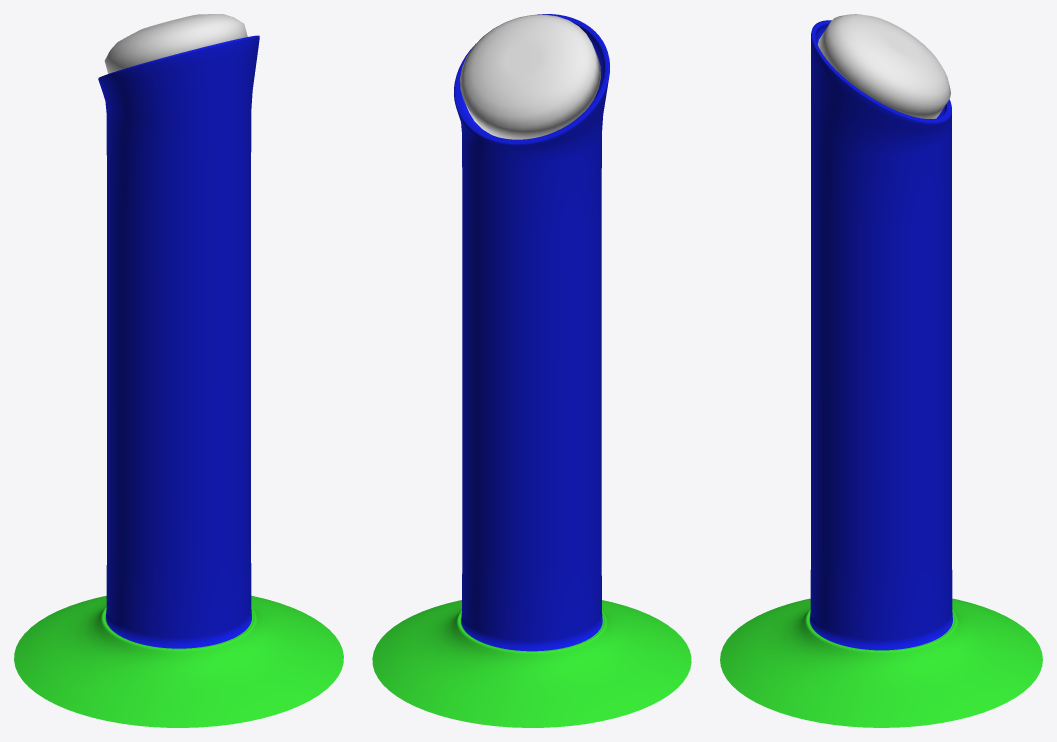
Rendered from Pedestal.fbx.
3 renders of one model, left to right at view 1: azimuth 30°, elevation 25°; view 2: azimuth 150°, elevation 25°; view 3: azimuth 270°, elevation 25°, orthographic. The views are drawn at different scales.
Parts seen in each view (by area): view 1: Cylinder, Circle; view 2: Cylinder, Circle; view 3: Cylinder, Circle.
Part boxes in pixels (x1=…): Cylinder: x1=14, y1=35, x2=343, y2=727; Circle: x1=104, y1=14, x2=247, y2=73; Cylinder: x1=372, y1=14, x2=691, y2=727; Circle: x1=460, y1=14, x2=600, y2=139; Cylinder: x1=720, y1=20, x2=1042, y2=727; Circle: x1=818, y1=14, x2=950, y2=118.
Size of the model in its own units: 45.53 by 98.91 by 45.53.
